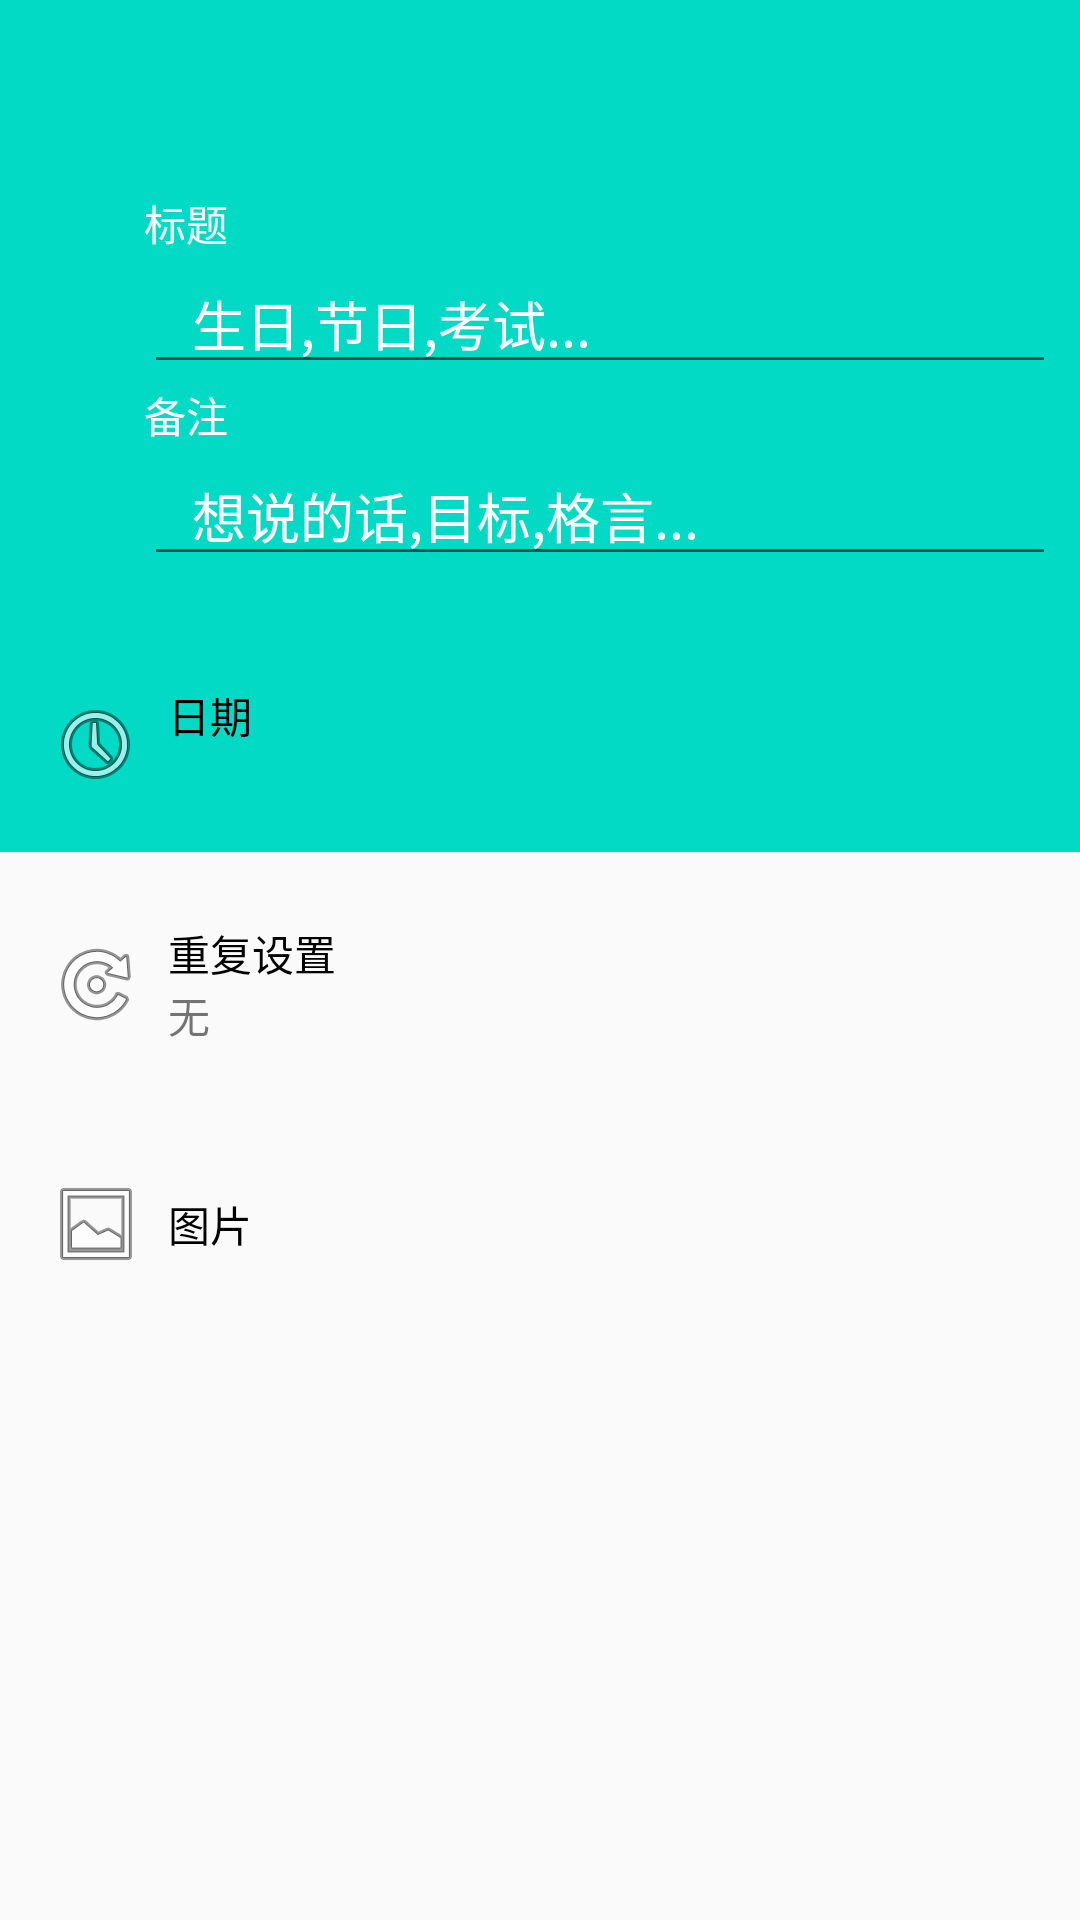

Icons on this 1080px x 1920px Android screen, each with the point to tap as [x,y]:
gallery: [96,1224]
recent history: [95,744]
rotate: [96,984]
